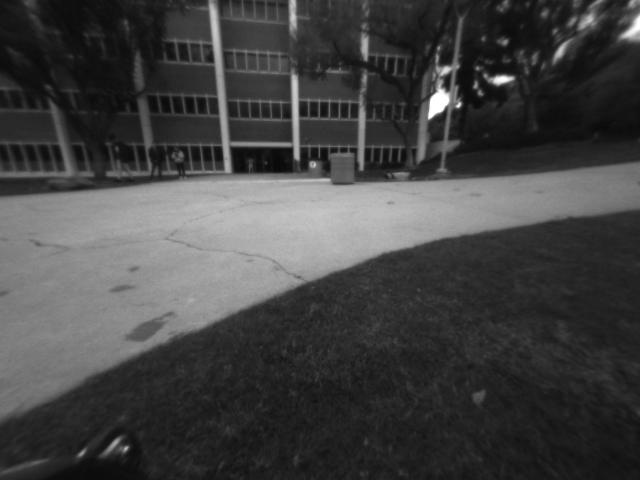trashcan: (326, 150, 355, 186), (305, 157, 322, 180)
